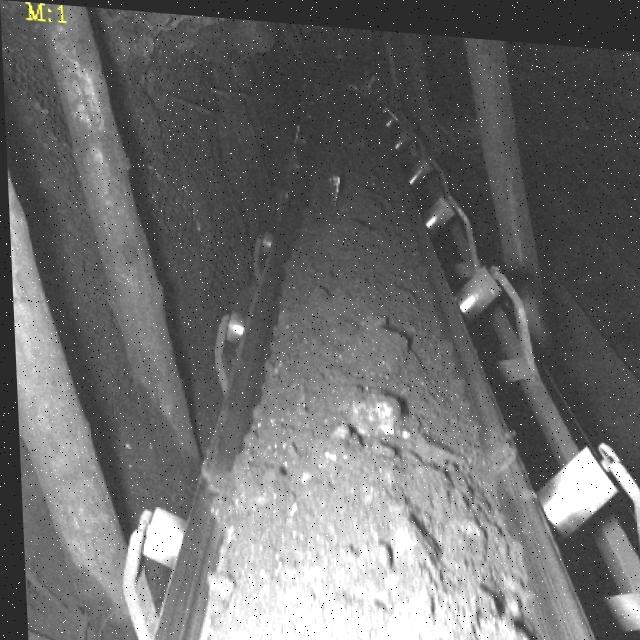large_sized_coal: (339, 384, 400, 434)
